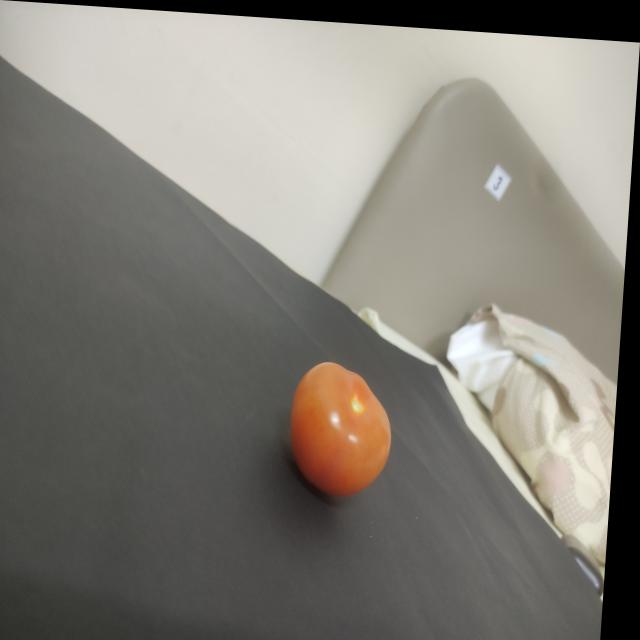sari: (276, 344, 409, 531)
